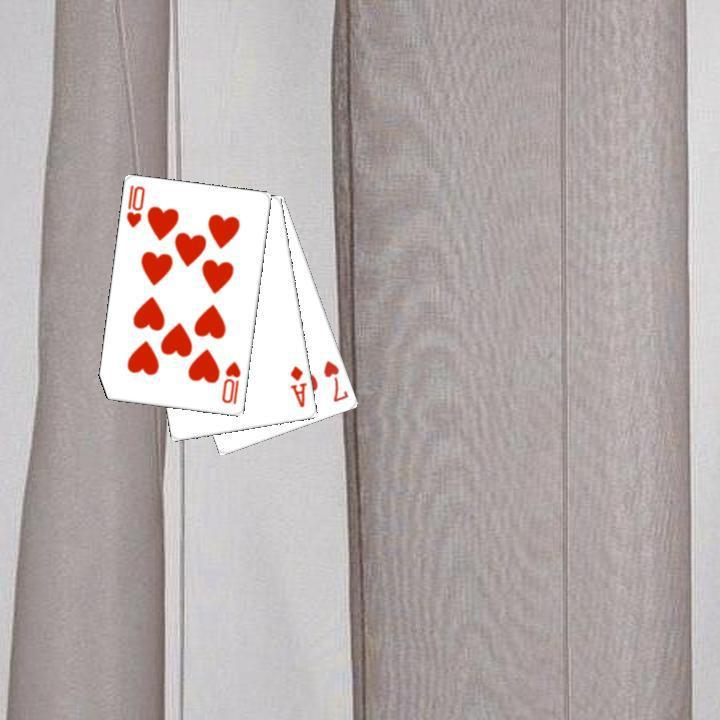10: (218, 357, 243, 406), (122, 181, 147, 230)
7: (319, 356, 351, 405)
A: (286, 362, 309, 409)
